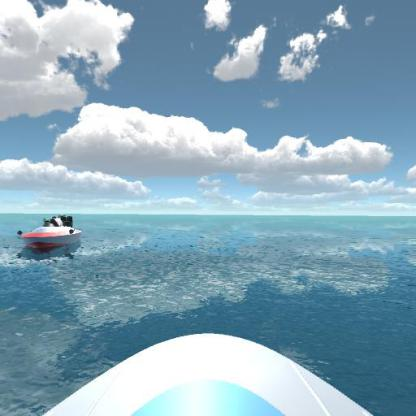usv0: (38, 209, 78, 229)
usv3: (16, 215, 90, 252)
